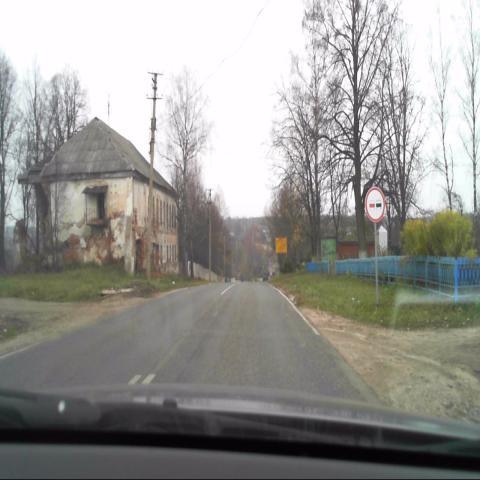3_20: (364, 186, 385, 223)
